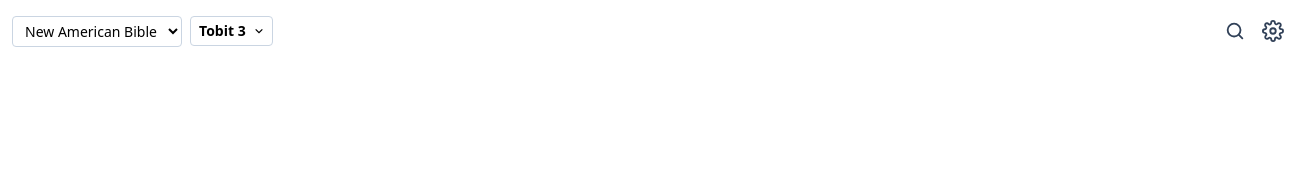
Test: ReaderBar › aSingleEditionSiteHasNothingToCompare
What coordinates should you click on to do the following:
click the button named "Reading settings"
I would click on:
 (1273, 31)
Its box is [1254, 12, 1292, 50].
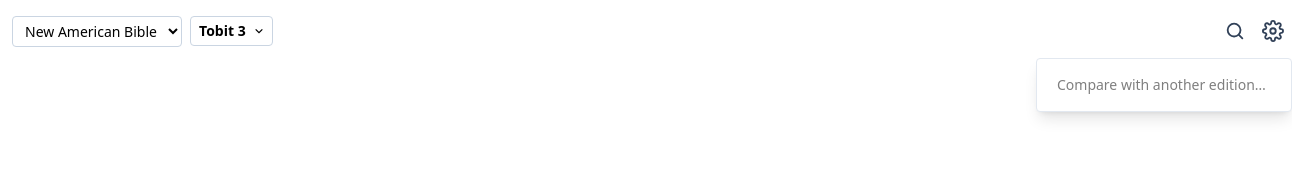
Expected: the button "Compare with another edition…" is disabled, [1045, 67, 1283, 103]
